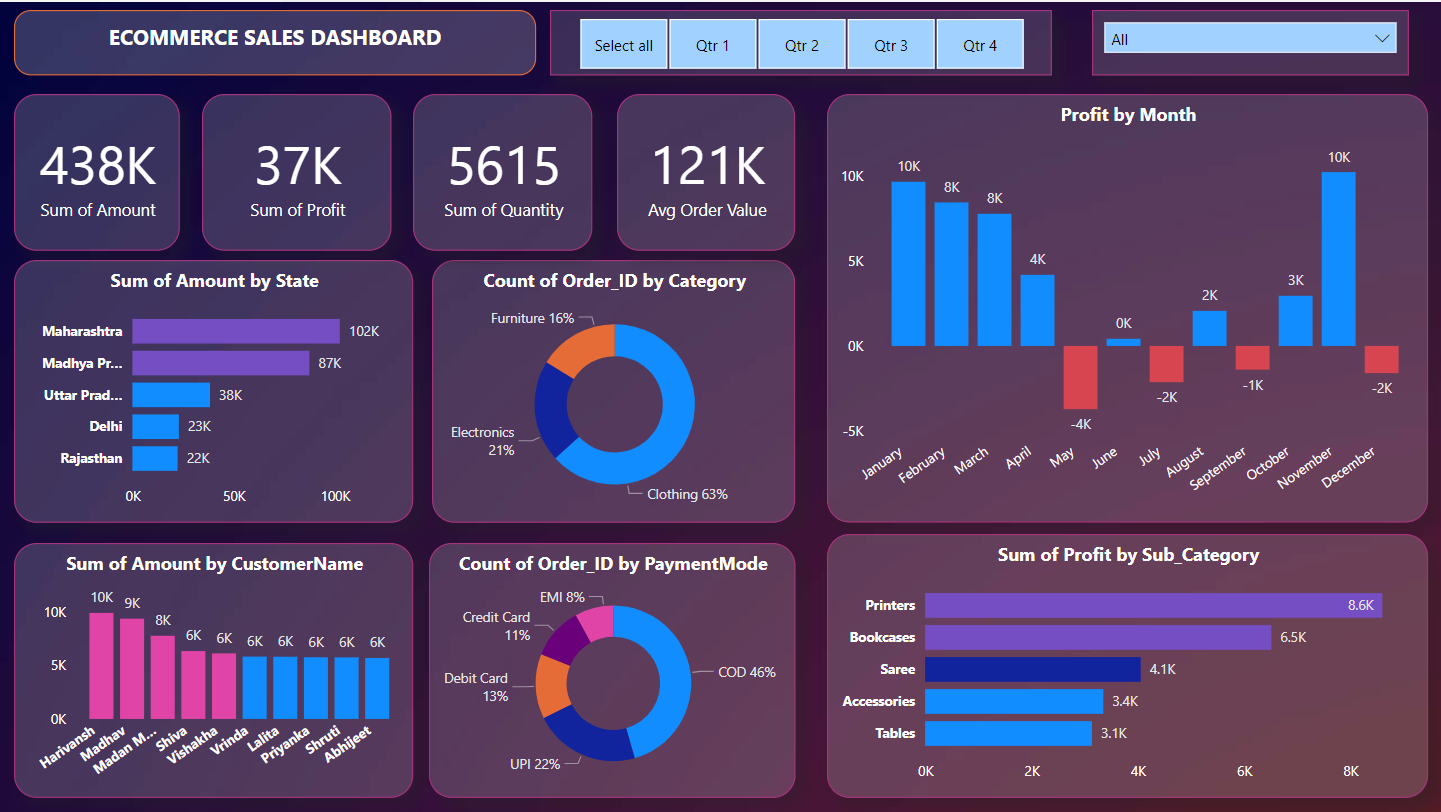

The dashboard page shown, as its layout file describes it:
{"tool":"powerbi","page":{"name":"Page 1","canvas":[1280,720],"ordinal":0},"visuals":[{"type":"textbox","box":[12,7,463,58],"z":0},{"type":"columnChart","title":"Profit by Month","fields":{"Y":["Sum(details.Profit)"],"Category":["orders.Order_Date.Variation.Date Hierarchy.Month"]},"box":[726,82,540,380],"z":1000},{"type":"barChart","fields":{"Category":["details.Sub_Category"],"Y":["Sum(details.Profit)"]},"box":[733,472,533,234],"z":2000},{"type":"donutChart","fields":{"Category":["details.Category"],"Y":["CountNonNull(details.Order_ID)"]},"box":[383,229,322,233],"z":3000},{"type":"donutChart","fields":{"Y":["CountNonNull(details.Order_ID)"],"Category":["details.PaymentMode"]},"box":[380,480,325,226],"z":4000},{"type":"slicer","fields":{"Values":["orders.Order_Date.Variation.Date Hierarchy.Quarter"]},"box":[488,7,445,58],"z":5000},{"type":"card","fields":{"Values":["Sum(details.Amount)"]},"box":[12,82,147,139],"z":6000},{"type":"card","fields":{"Values":["Sum(details.Profit)"]},"box":[179,82,168,139],"z":7000},{"type":"card","fields":{"Values":["Sum(details.Quantity)"]},"box":[366,82,159,139],"z":8000},{"type":"card","fields":{"Values":["Sum(details.Average Order Value)"]},"box":[547,82,158,139],"z":9000},{"type":"slicer","fields":{"Values":["orders.City"]},"box":[968,7,281,58],"z":10000},{"type":"barChart","fields":{"Category":["orders.State"],"Y":["Sum(details.Amount)"]},"box":[12,229,354,233],"z":11000},{"type":"columnChart","fields":{"Category":["orders.CustomerName"],"Y":["Sum(details.Amount)"]},"box":[12,480,354,226],"z":12000}]}

Visuals, with their boxes in screenshot pixels (x1, y1, x2, y2), scaled from the page's 1280x720 canvas onto the 1441x812 screenshot:
textbox: [14, 8, 535, 73]
"Profit by Month" columnChart: [817, 92, 1425, 521]
barChart - details.Sub_Category x Sum(details.Profit): [825, 532, 1425, 796]
donutChart - details.Category x CountNonNull(details.Order_ID): [431, 258, 794, 521]
donutChart - CountNonNull(details.Order_ID) x details.PaymentMode: [428, 541, 794, 796]
slicer - orders.Order_Date.Variation.Date Hierarchy.Quarter: [549, 8, 1050, 73]
card - Sum(details.Amount): [14, 92, 179, 249]
card - Sum(details.Profit): [202, 92, 391, 249]
card - Sum(details.Quantity): [412, 92, 591, 249]
card - Sum(details.Average Order Value): [616, 92, 794, 249]
slicer - orders.City: [1090, 8, 1406, 73]
barChart - orders.State x Sum(details.Amount): [14, 258, 412, 521]
columnChart - orders.CustomerName x Sum(details.Amount): [14, 541, 412, 796]
